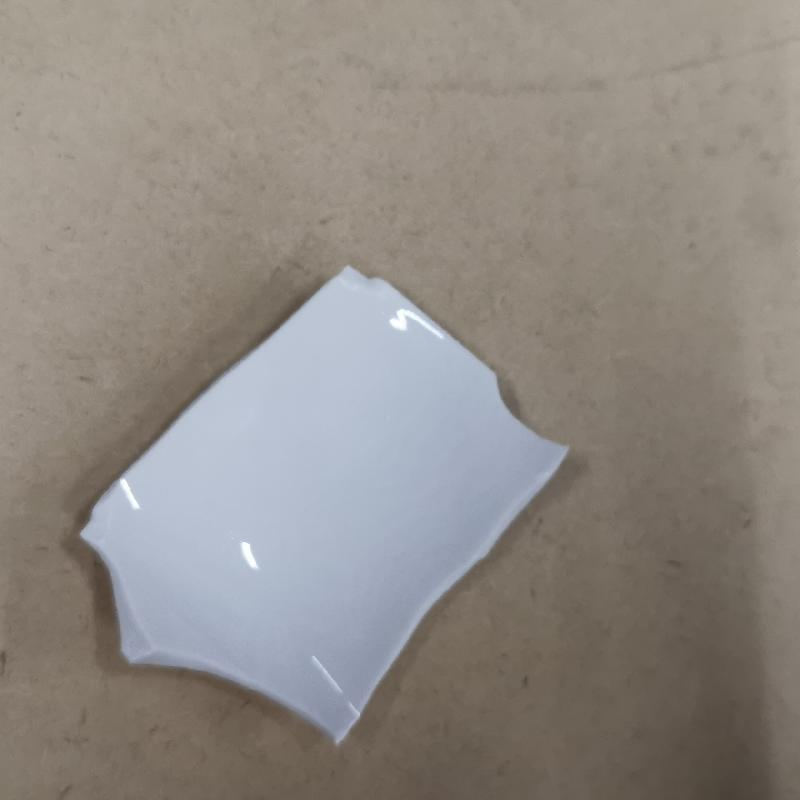ceram: (79, 263, 572, 743)
